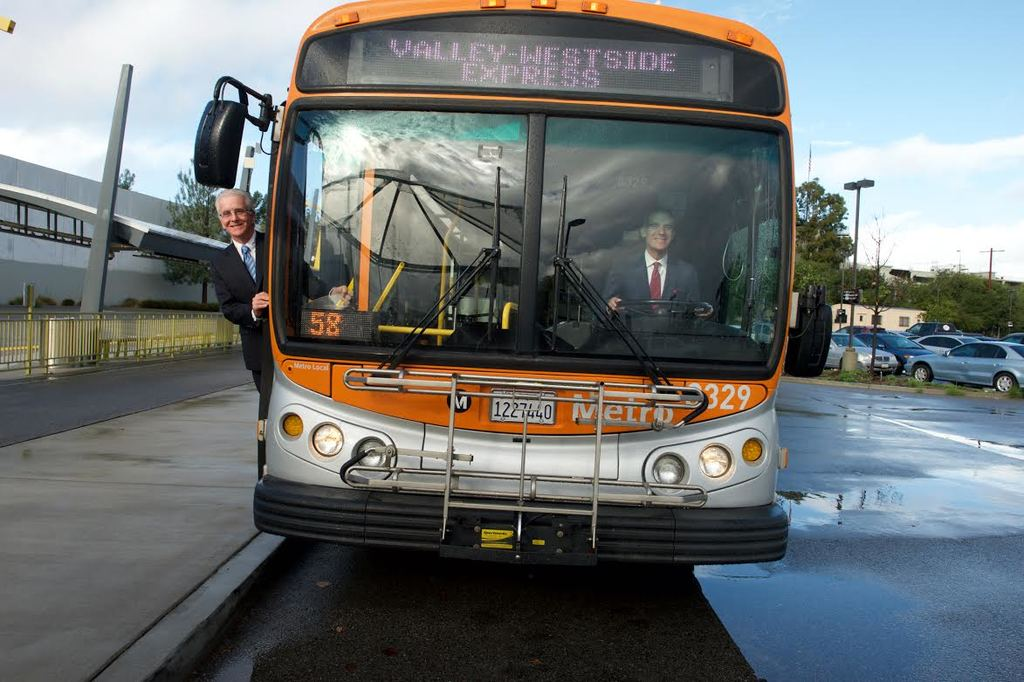Bus: (184, 0, 826, 558)
